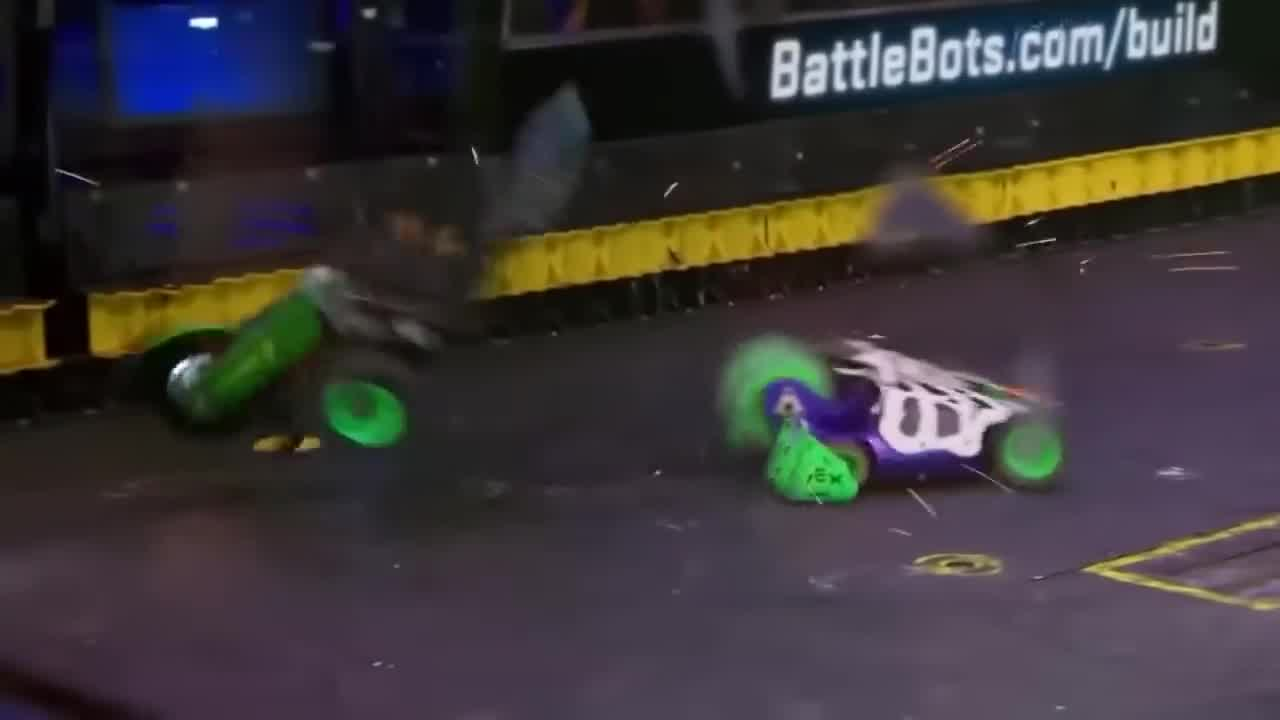combatbot: (136, 89, 590, 456), (721, 329, 1069, 523)
